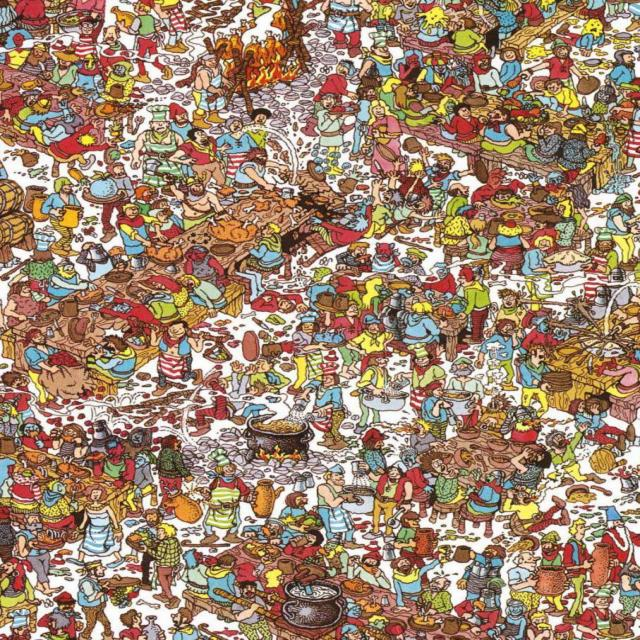waldo: (76, 12, 98, 35)
